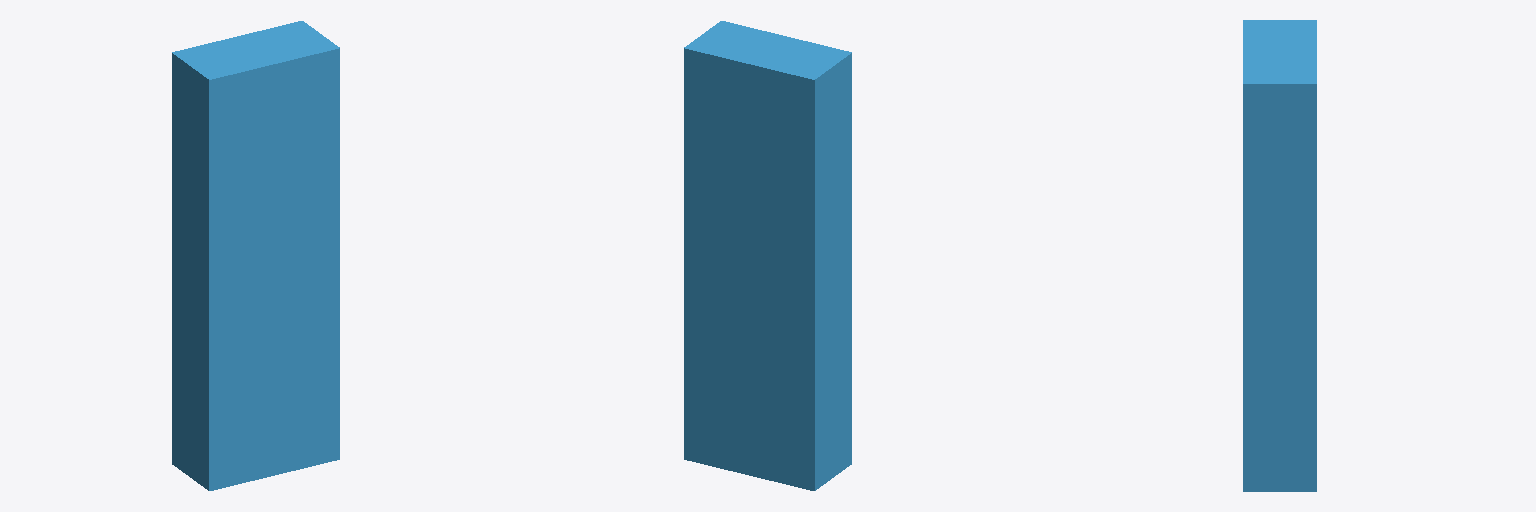
robot.urdf — origins:
<?xml version="1.0"?>
<robot name="origins">
  <link name="base_link">
    <visual>
      <geometry>
        <mesh filename="stl/base_link.stl" scale="100"/>
      </geometry>
    </visual>
  </link>

  <link name="right_leg">
    <visual>
      <geometry>
        <box size="0.6 0.1 0.2"/>
      </geometry>
      <origin rpy="0 1.57075 0" xyz="0 0 -0.3"/>
    </visual>
  </link>

  <joint name="base_to_right_leg" type="fixed">
    <parent link="base_link"/>
    <child link="right_leg"/>
    <origin xyz="0 -0.22 0.25"/>
  </joint>

</robot>

--- What the picture shows (computed from the rendered views, not written in the file) ---
3 views of the same robot in one strip: view 1: azimuth 30°, elevation 25°; view 2: azimuth 150°, elevation 25°; view 3: azimuth 270°, elevation 25° (orthographic).
Robot: origins — 2 links, 1 joints (1 fixed); root link base_link; default pose: all joints at 0.
Links seen in each view (by area): view 1: right_leg; view 2: right_leg; view 3: right_leg.
Link boxes in pixels (x1=…): right_leg: x1=172, y1=21, x2=339, y2=490; right_leg: x1=684, y1=21, x2=851, y2=490; right_leg: x1=1243, y1=20, x2=1316, y2=491.
Size in the robot's own frame: 0.2 by 0.1 by 0.6 metres.
0 mesh visuals loaded from 1 distinct referenced files (none loaded); not drawn: 1 (reference not matched to a file when rendering).
